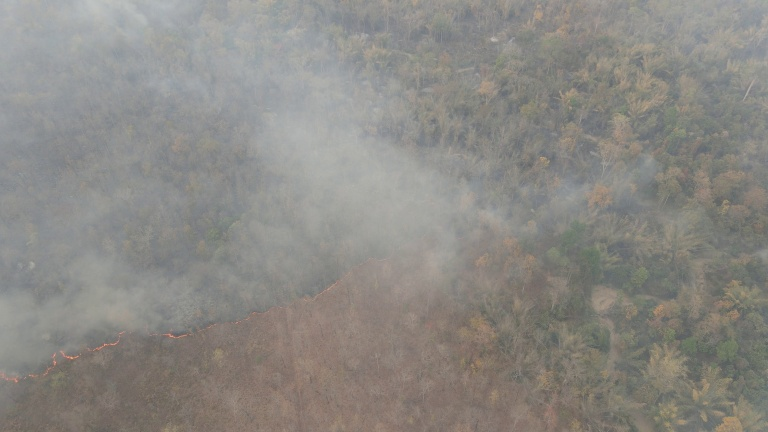fire: (148, 262, 384, 347), (1, 328, 145, 389)
smoke: (2, 1, 489, 401), (491, 125, 768, 251)
